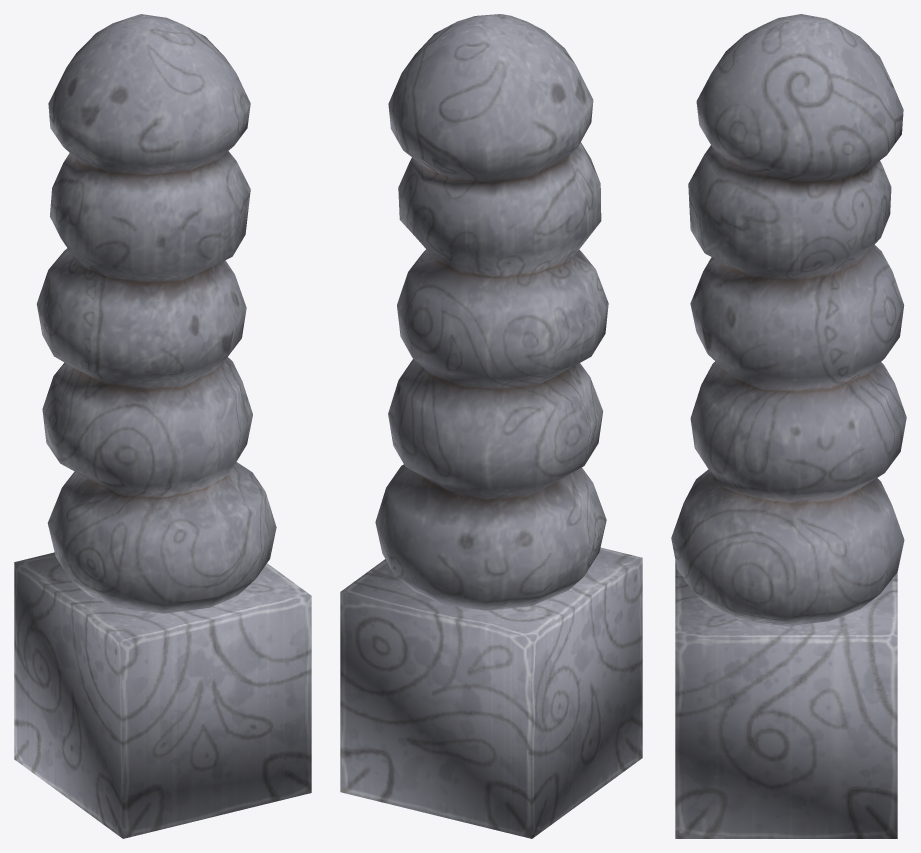
Rendered from Asset_StatueSlime_01.fbx.
3 renders of one model, left to right at view 1: azimuth 30°, elevation 25°; view 2: azimuth 150°, elevation 25°; view 3: azimuth 270°, elevation 25°, orthographic. The views are drawn at different scales.
Parts seen in each view (by area): view 1: Asset_StatueSlime_01; view 2: Asset_StatueSlime_01; view 3: Asset_StatueSlime_01.
Part boxes in pixels (x1,y1,x2,y2): Asset_StatueSlime_01: [14, 14, 311, 838]; Asset_StatueSlime_01: [340, 14, 642, 838]; Asset_StatueSlime_01: [671, 14, 906, 838].
Bounding box in the file's own units: 262 × 909 × 252.
